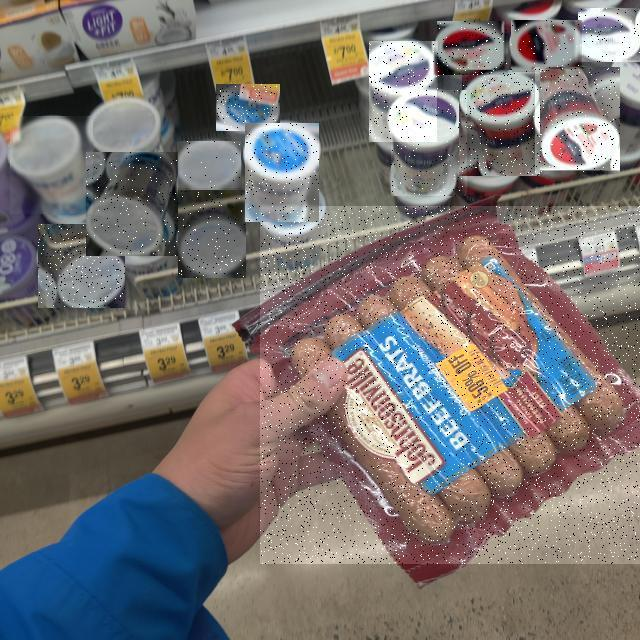Meat: (260, 206, 640, 564)
Yoghurt: (87, 153, 179, 257), (535, 68, 620, 174), (462, 71, 540, 177), (392, 90, 470, 196), (10, 117, 93, 215), (245, 123, 319, 222), (38, 225, 125, 309), (370, 41, 440, 142), (178, 191, 246, 279), (438, 21, 508, 75), (512, 20, 584, 72), (578, 9, 640, 63), (177, 142, 241, 190), (217, 84, 281, 131)
